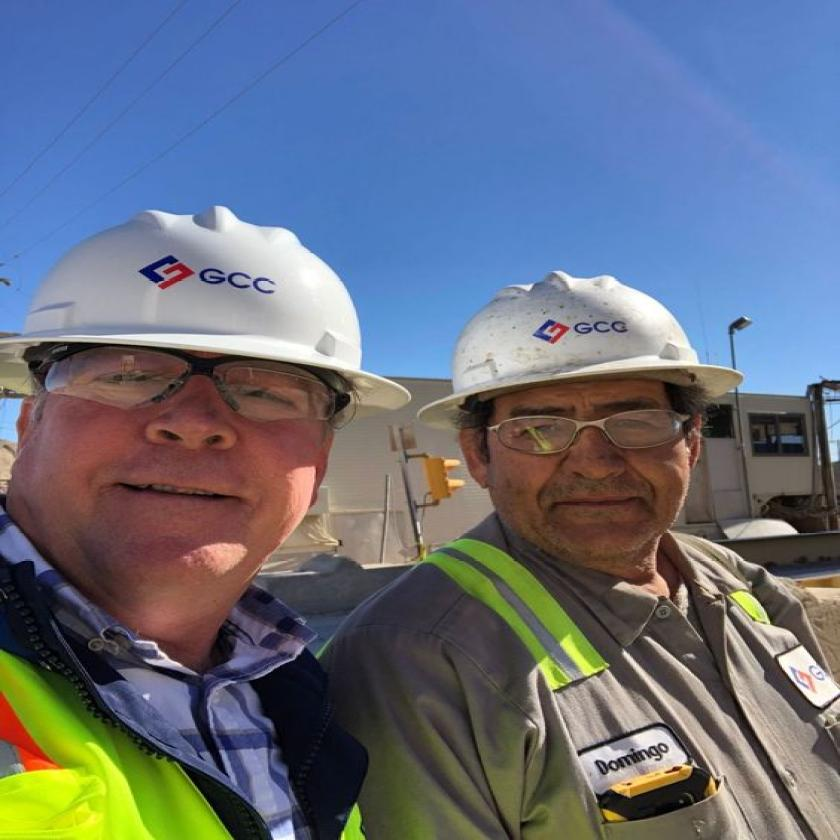Con_casco: (0, 176, 421, 618), (417, 241, 784, 566)
